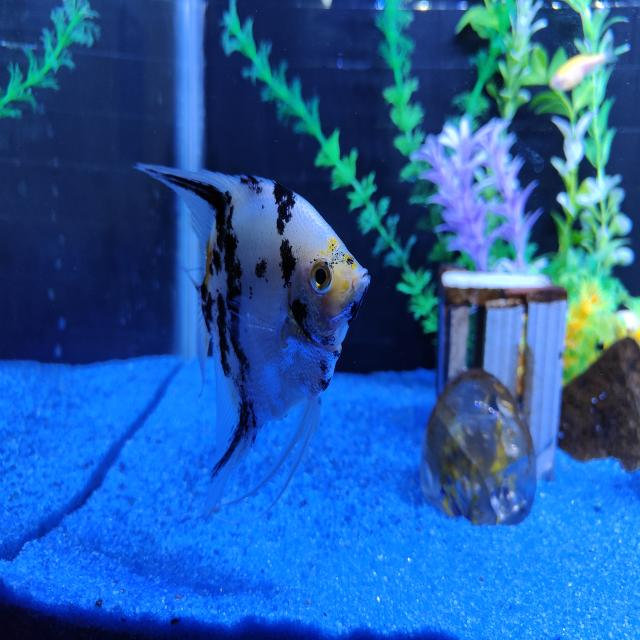Fish: (137, 165, 369, 512), (550, 53, 611, 91)
